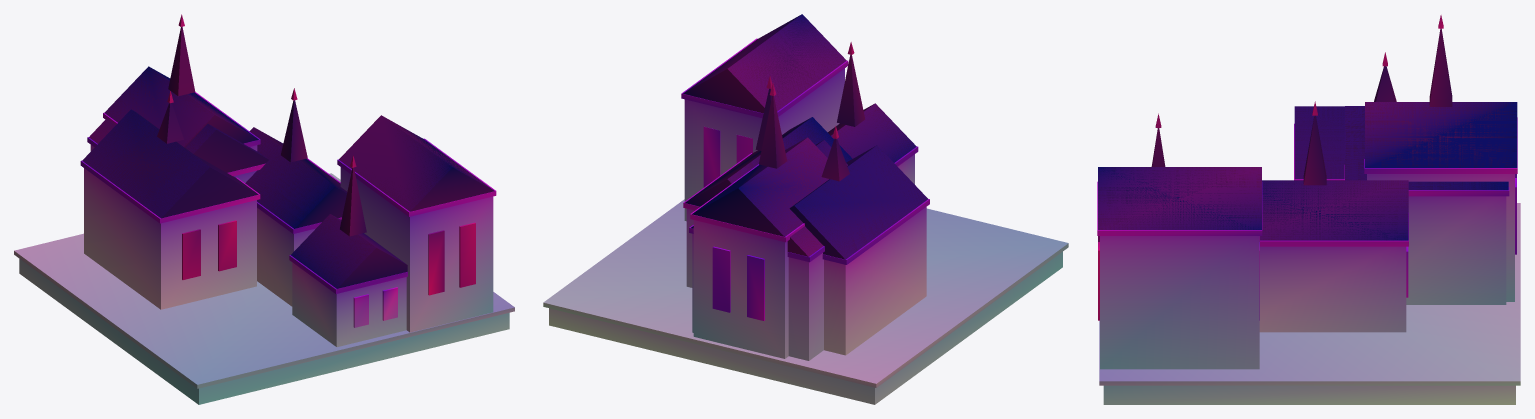
The model's file is city_cluster_b.glb.
3 renders of one model, left to right at view 1: azimuth 30°, elevation 25°; view 2: azimuth 150°, elevation 25°; view 3: azimuth 270°, elevation 25°, orthographic. The views are drawn at different scales.
Visible parts, largest first — view 1: city, city_roof, city_trim, city_windows, city_dark; view 2: city, city_roof, city_trim, city_dark; view 3: city, city_roof, city_trim, city_dark.
Part boxes in pixels (left/top/right/bottom): city: left=19, top=145, right=509, bottom=404; city_roof: left=82, top=26, right=494, bottom=288; city_trim: left=14, top=92, right=514, bottom=388; city_windows: left=182, top=220, right=475, bottom=295; city_dark: left=353, top=287, right=397, bottom=327; city: left=549, top=68, right=1062, bottom=404; city_roof: left=683, top=14, right=927, bottom=259; city_trim: left=543, top=38, right=1068, bottom=387; city_dark: left=703, top=127, right=764, bottom=320; city: left=1100, top=174, right=1515, bottom=404; city_roof: left=1098, top=28, right=1517, bottom=240; city_trim: left=1097, top=117, right=1520, bottom=385; city_dark: left=1259, top=174, right=1516, bottom=320.
Size of the model in its own units: 18.4 by 13.95 by 18.48.
